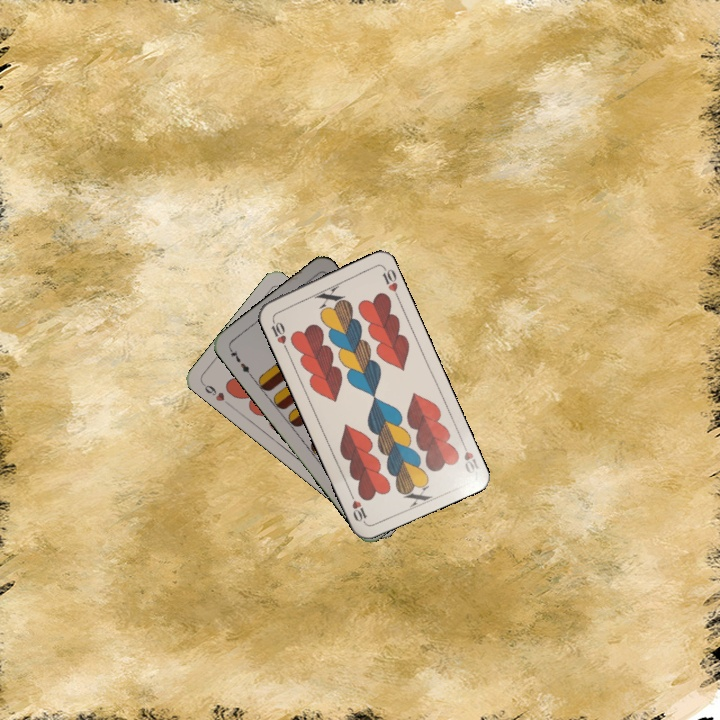E7: (225, 344, 255, 379)
H10: (457, 436, 481, 476), (266, 314, 290, 353)
H9: (198, 379, 233, 408)
